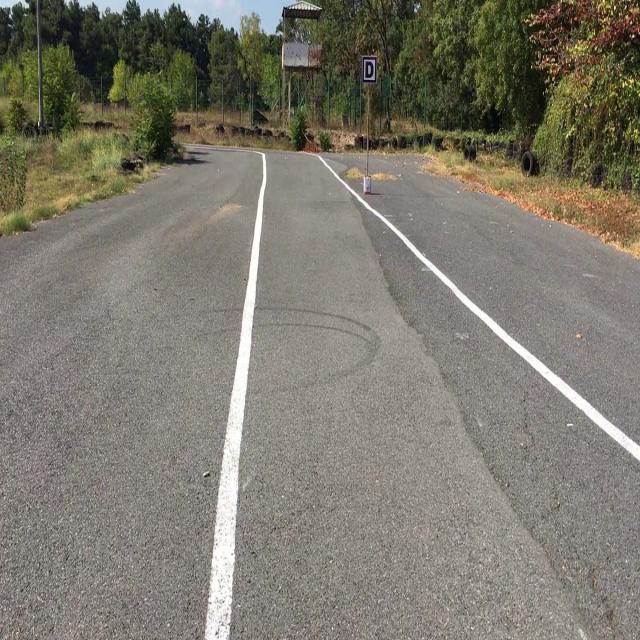durak: (362, 57, 376, 83)
